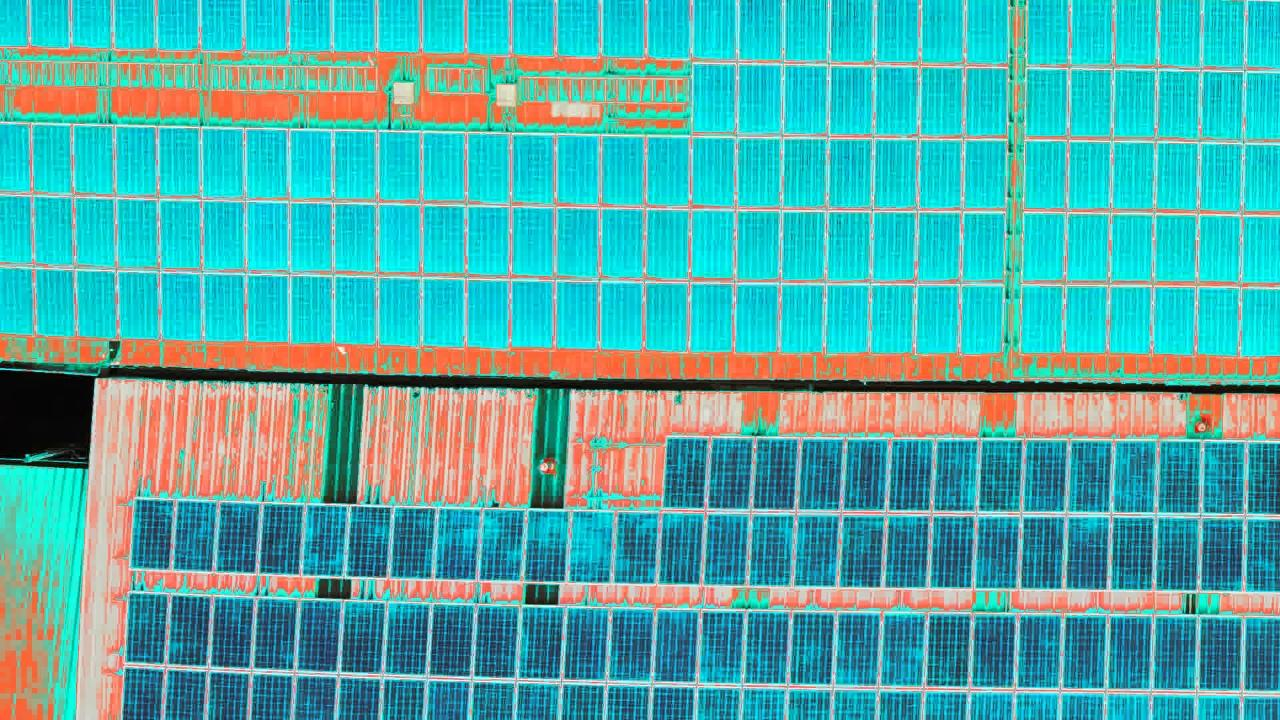clean: (664, 443, 1280, 583), (125, 595, 690, 720), (137, 495, 666, 582)
dirty: (6, 124, 693, 355), (695, 1, 1006, 352), (1027, 1, 1280, 351)
semi: (702, 605, 1280, 716)
